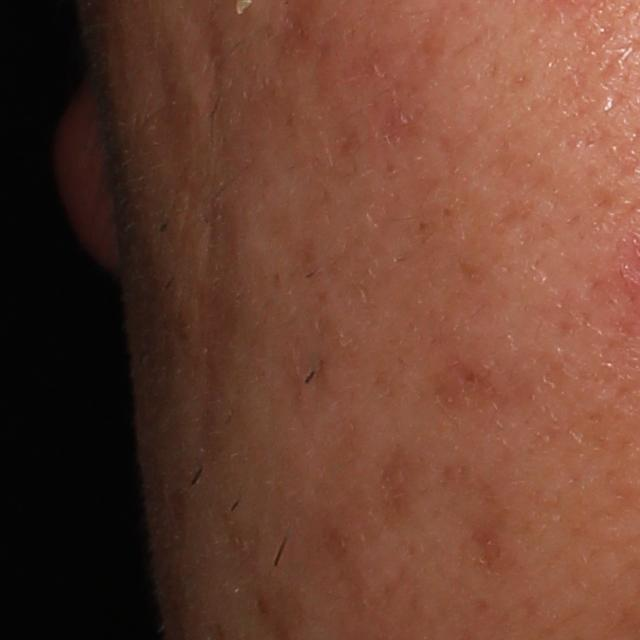atrophic_scar: (172, 0, 248, 158), (164, 157, 248, 288), (180, 296, 240, 473)
